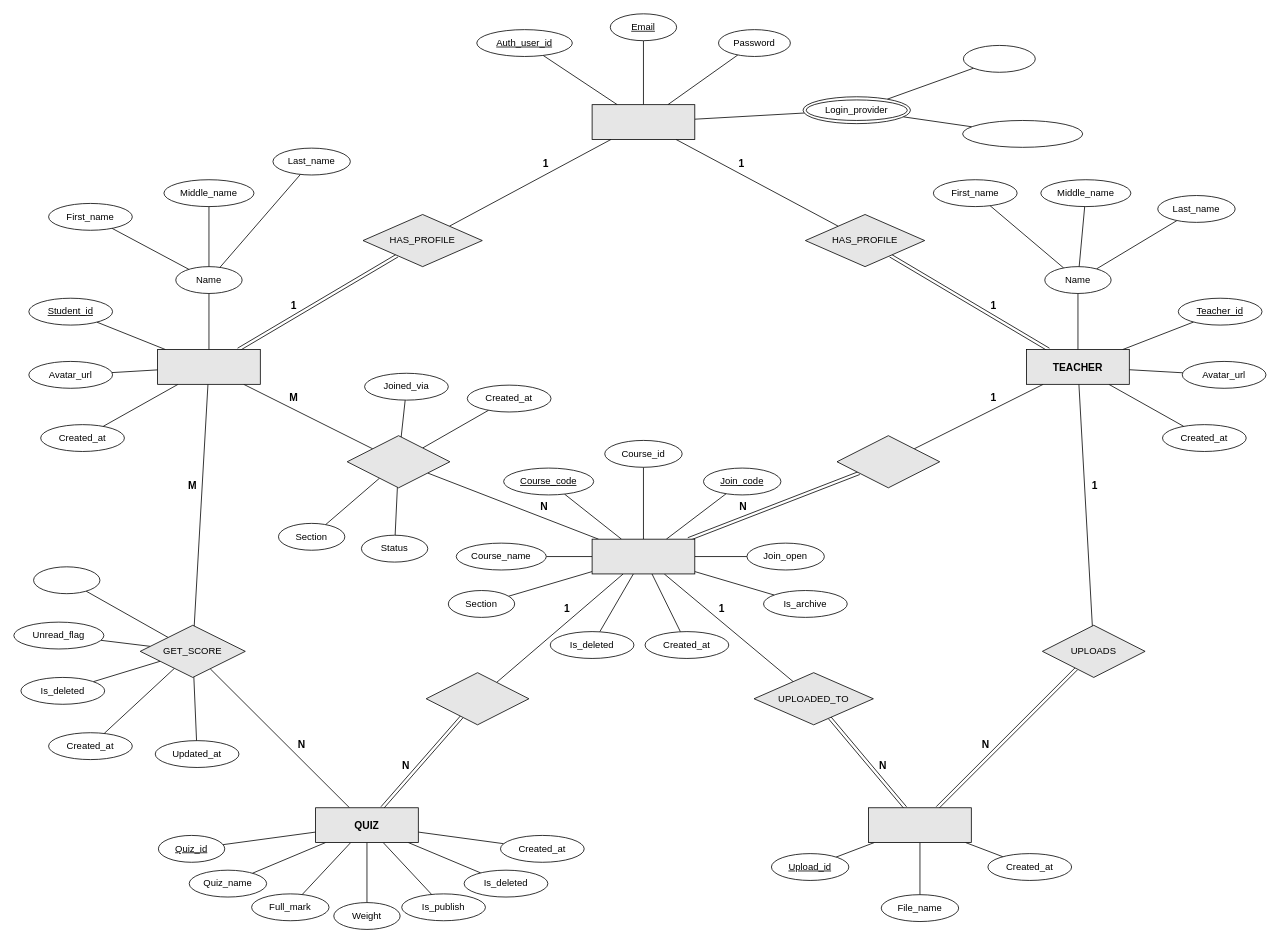
This 1280x943 diagram has some shape labels left out. Here are the shapes that lost their labels. From the top down, the box of each, then its label:
(963, 45, 1035, 72): Provider
(591, 104, 695, 139): AUTH_USER
(962, 120, 1083, 147): Provider_user_id
(157, 349, 260, 384): STUDENT
(346, 435, 450, 488): ENROLL
(836, 435, 940, 488): TEACHES
(591, 538, 695, 574): COURSE
(33, 566, 100, 594): Score
(425, 672, 529, 725): CONTAINS
(868, 807, 971, 843): UPLOAD
